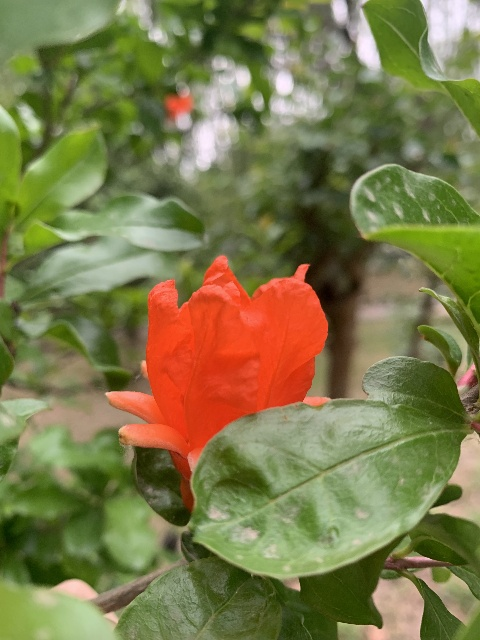flower: (107, 252, 332, 515)
